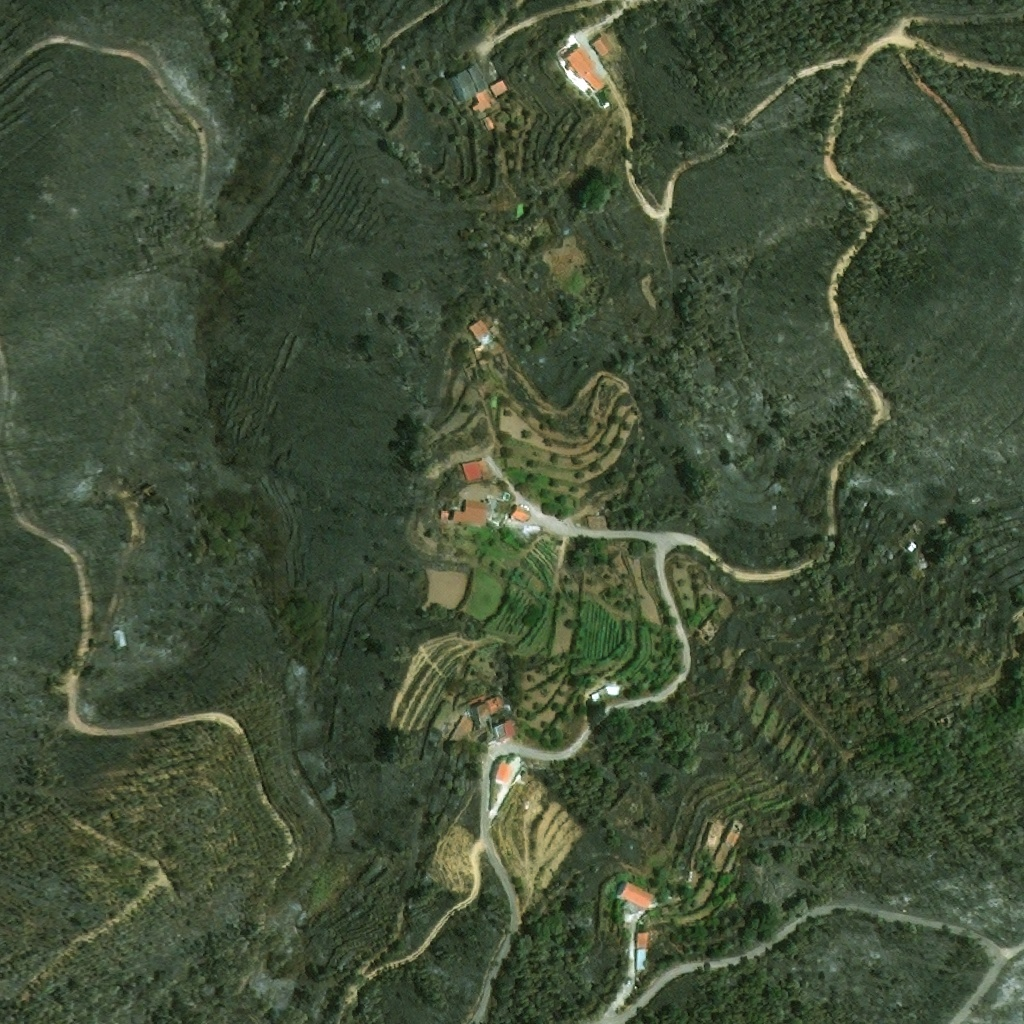0 no-damage: (557, 41, 607, 93), (612, 879, 658, 912), (448, 63, 486, 101), (468, 692, 505, 728), (440, 499, 487, 523), (698, 821, 724, 850), (457, 460, 491, 481), (720, 819, 743, 848), (465, 317, 491, 342), (447, 715, 473, 740), (492, 718, 517, 742), (632, 933, 647, 972), (508, 502, 532, 525), (587, 32, 609, 56), (469, 91, 492, 113), (491, 760, 510, 786), (486, 79, 506, 98), (477, 117, 494, 132)
3 destroyed: (696, 618, 718, 643)
